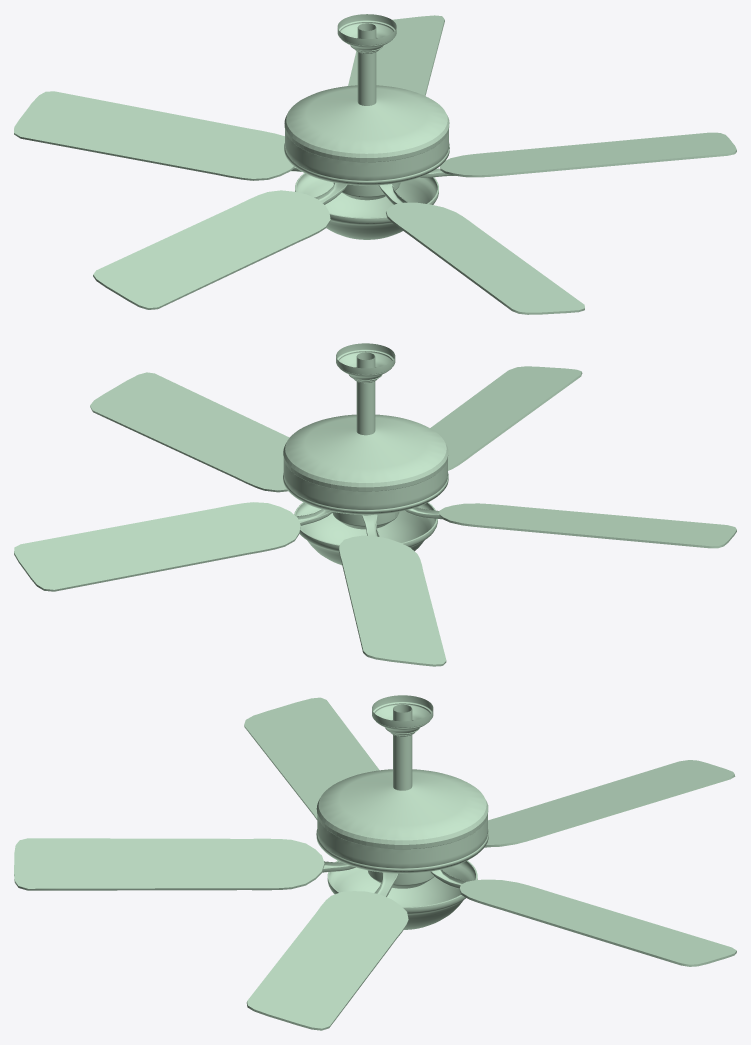
Rendered from Ceiling_Fan_Gen_2.fbx.
3 views of the same model, one above another, from view 1: azimuth 30°, elevation 25°; view 2: azimuth 150°, elevation 25°; view 3: azimuth 270°, elevation 25° (orthographic). The views are drawn at different scales.
Parts seen in each view (by area): view 1: mesh_fan; view 2: mesh_fan; view 3: mesh_fan.
Part boxes in pixels (x1=…): mesh_fan: x1=14, y1=14, x2=736, y2=314; mesh_fan: x1=14, y1=343, x2=736, y2=666; mesh_fan: x1=14, y1=695, x2=736, y2=1030.
Size of the model in its own units: 178 by 56.31 by 170.
